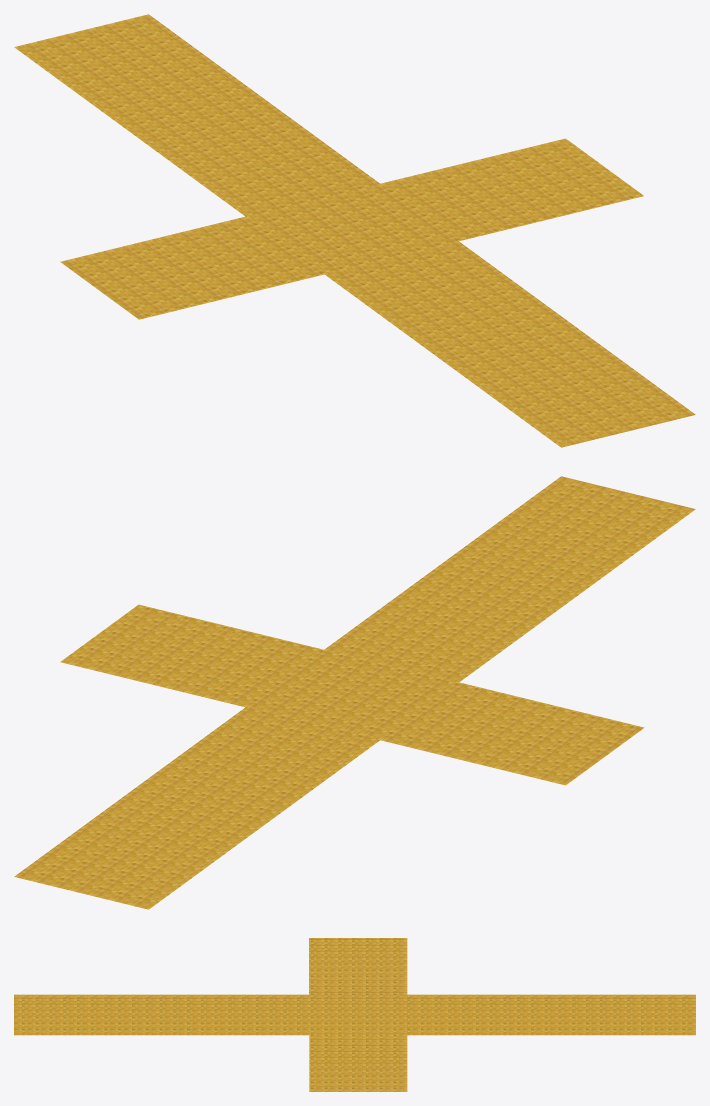
The model's file is pav6.glb.
The picture shows the model from 3 angles, top to bottom: view 1: azimuth 30°, elevation 25°; view 2: azimuth 150°, elevation 25°; view 3: azimuth 270°, elevation 25°; orthographic projection. The views are drawn at different scales.
Parts seen in each view (by area): view 1: Piano.029; view 2: Piano.029; view 3: Piano.029.
Boxes of the visible parts, left/top/right/bottom form: Piano.029: left=14, top=14, right=695, bottom=447; Piano.029: left=14, top=476, right=695, bottom=909; Piano.029: left=14, top=938, right=695, bottom=1091.
Size of the model in its own units: 15.07 by 2.38e-07 by 28.26.
1 material, 1 textured.
